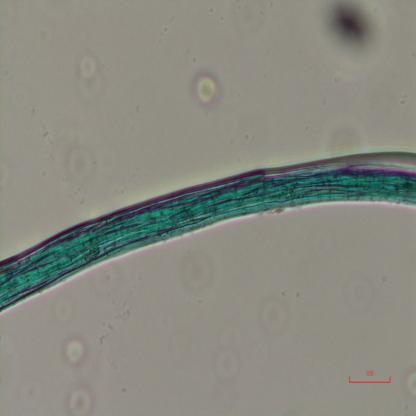Background material: (321, 0, 378, 70), (178, 249, 215, 294), (188, 70, 224, 115), (258, 289, 289, 339), (73, 56, 103, 100), (214, 342, 242, 382), (60, 335, 90, 368), (65, 384, 97, 414), (400, 360, 416, 402)
Microfibre: (0, 167, 416, 312)
